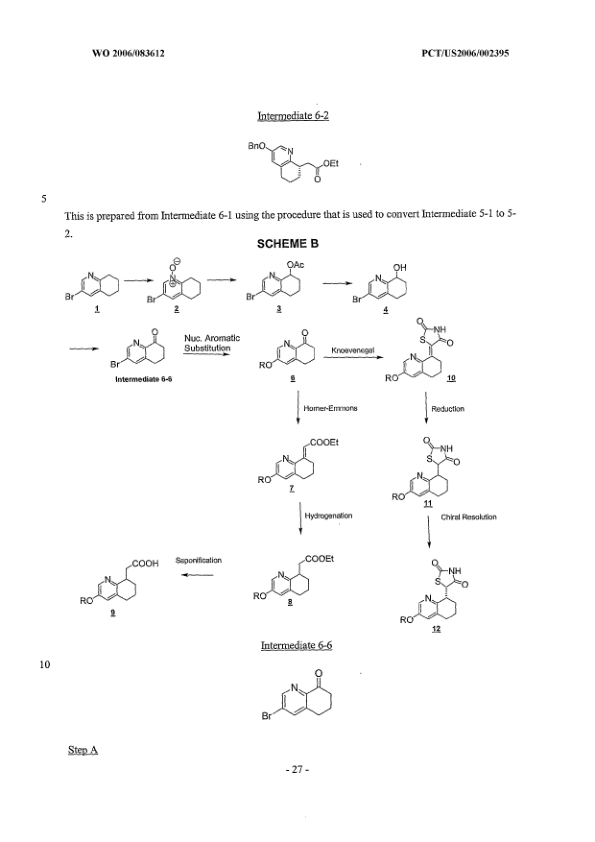compound-structure: (387, 429, 474, 510), (397, 551, 478, 638), (240, 129, 348, 192), (79, 540, 161, 620), (254, 658, 342, 727), (382, 310, 457, 390), (256, 427, 341, 494), (253, 547, 336, 607), (351, 250, 410, 317), (244, 255, 307, 315), (63, 258, 123, 315), (255, 321, 321, 371), (148, 255, 202, 315), (111, 321, 172, 368)
reaction: (30, 228, 545, 638)
reaction-arrow: (424, 511, 498, 548), (293, 499, 356, 538), (291, 389, 357, 424), (178, 329, 241, 360), (416, 393, 470, 423), (170, 553, 226, 581), (326, 343, 380, 370), (65, 339, 101, 359), (320, 276, 350, 296), (118, 273, 155, 285), (207, 274, 235, 287)
